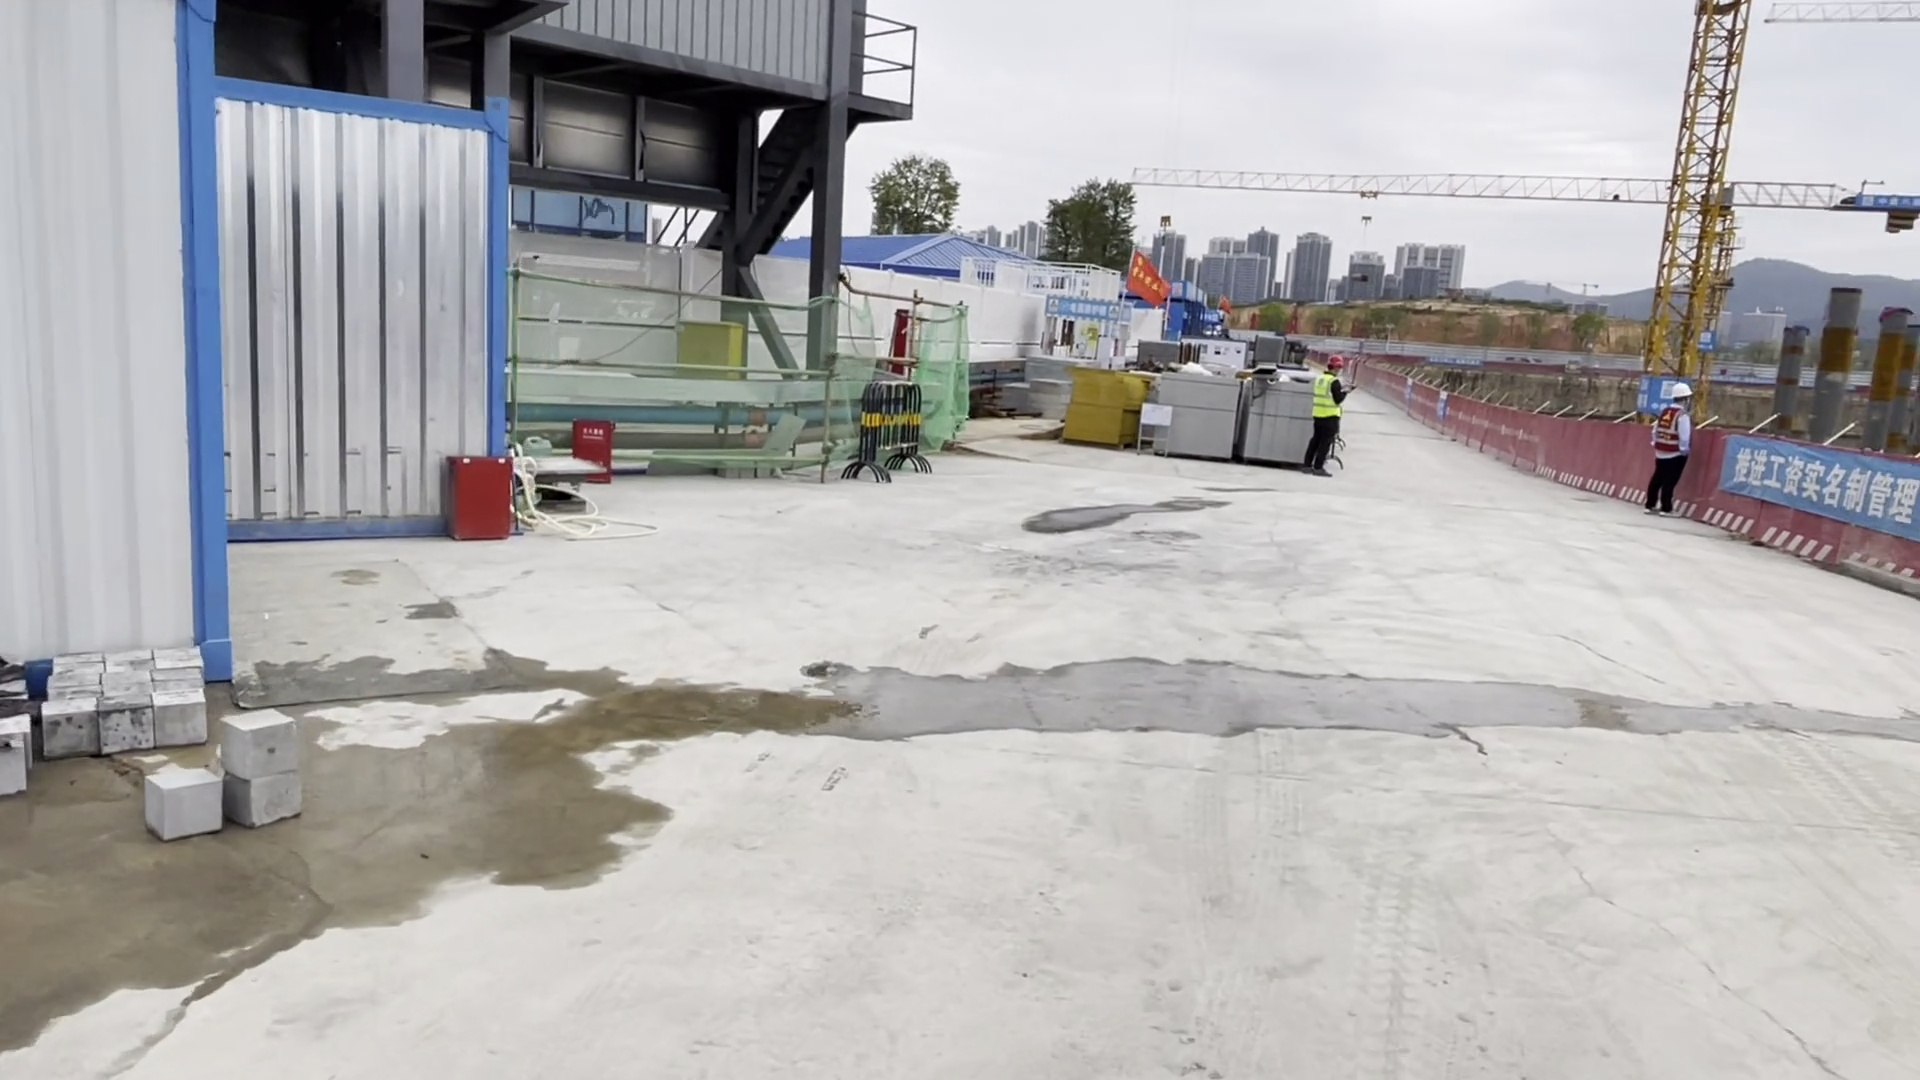brick: (1151, 366, 1242, 466), (1242, 367, 1308, 469), (1002, 348, 1070, 422)
ebox: (673, 316, 750, 383)
fence: (1408, 388, 1633, 505)
helmet: (1669, 380, 1696, 401), (1325, 352, 1347, 371)
hook: (1158, 213, 1175, 230), (1360, 213, 1373, 229)
person: (1645, 381, 1701, 521), (1308, 354, 1355, 482)
slogan: (1718, 438, 1920, 548), (1040, 286, 1138, 327)
vest: (1314, 373, 1346, 424), (1656, 406, 1684, 458)
